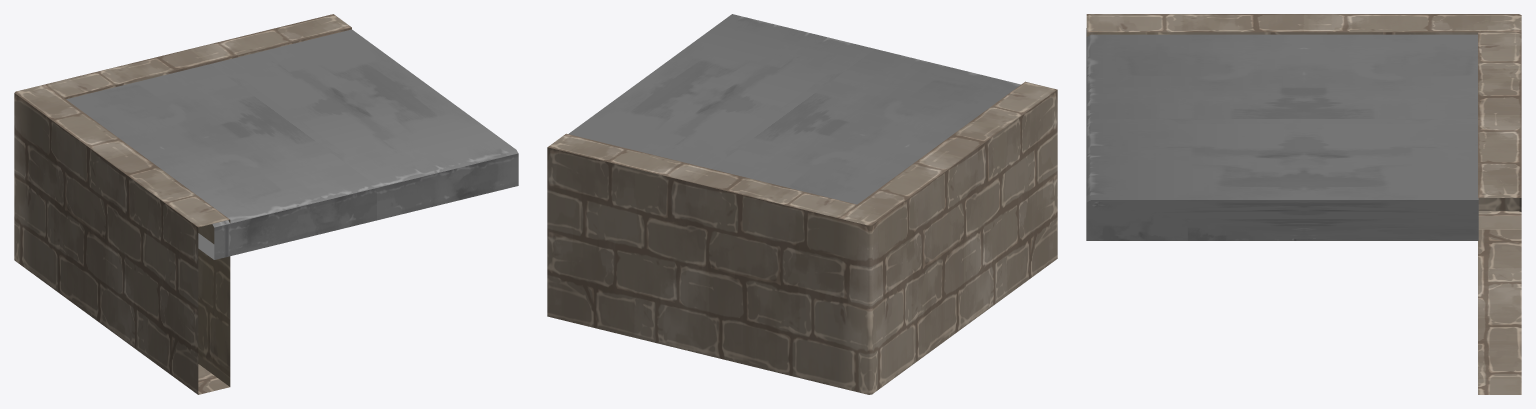
Rendered from Stairs_Exterior_Platform45Clean.obj.
The picture shows the model from 3 angles, left to right: view 1: azimuth 30°, elevation 25°; view 2: azimuth 150°, elevation 25°; view 3: azimuth 270°, elevation 25°; orthographic projection. The views are drawn at different scales.
Visible parts, largest first — view 1: Stairs_Exterior_Platform45Clean; view 2: Stairs_Exterior_Platform45Clean; view 3: Stairs_Exterior_Platform45Clean.
Boxes of the visible parts, <box> form: Stairs_Exterior_Platform45Clean: <box>14,14,518,394</box>; Stairs_Exterior_Platform45Clean: <box>547,14,1057,394</box>; Stairs_Exterior_Platform45Clean: <box>1086,14,1521,394</box>.
Size of the model in its own units: 2 by 1 by 2.
